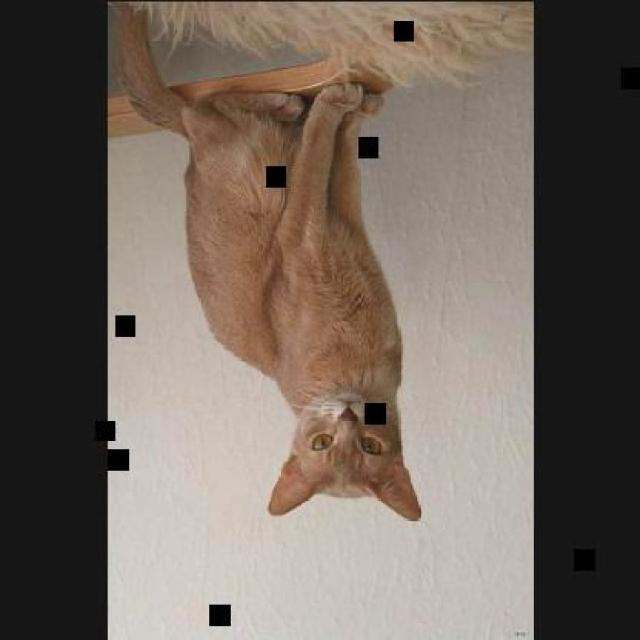unauthorized: (109, 0, 423, 522)
